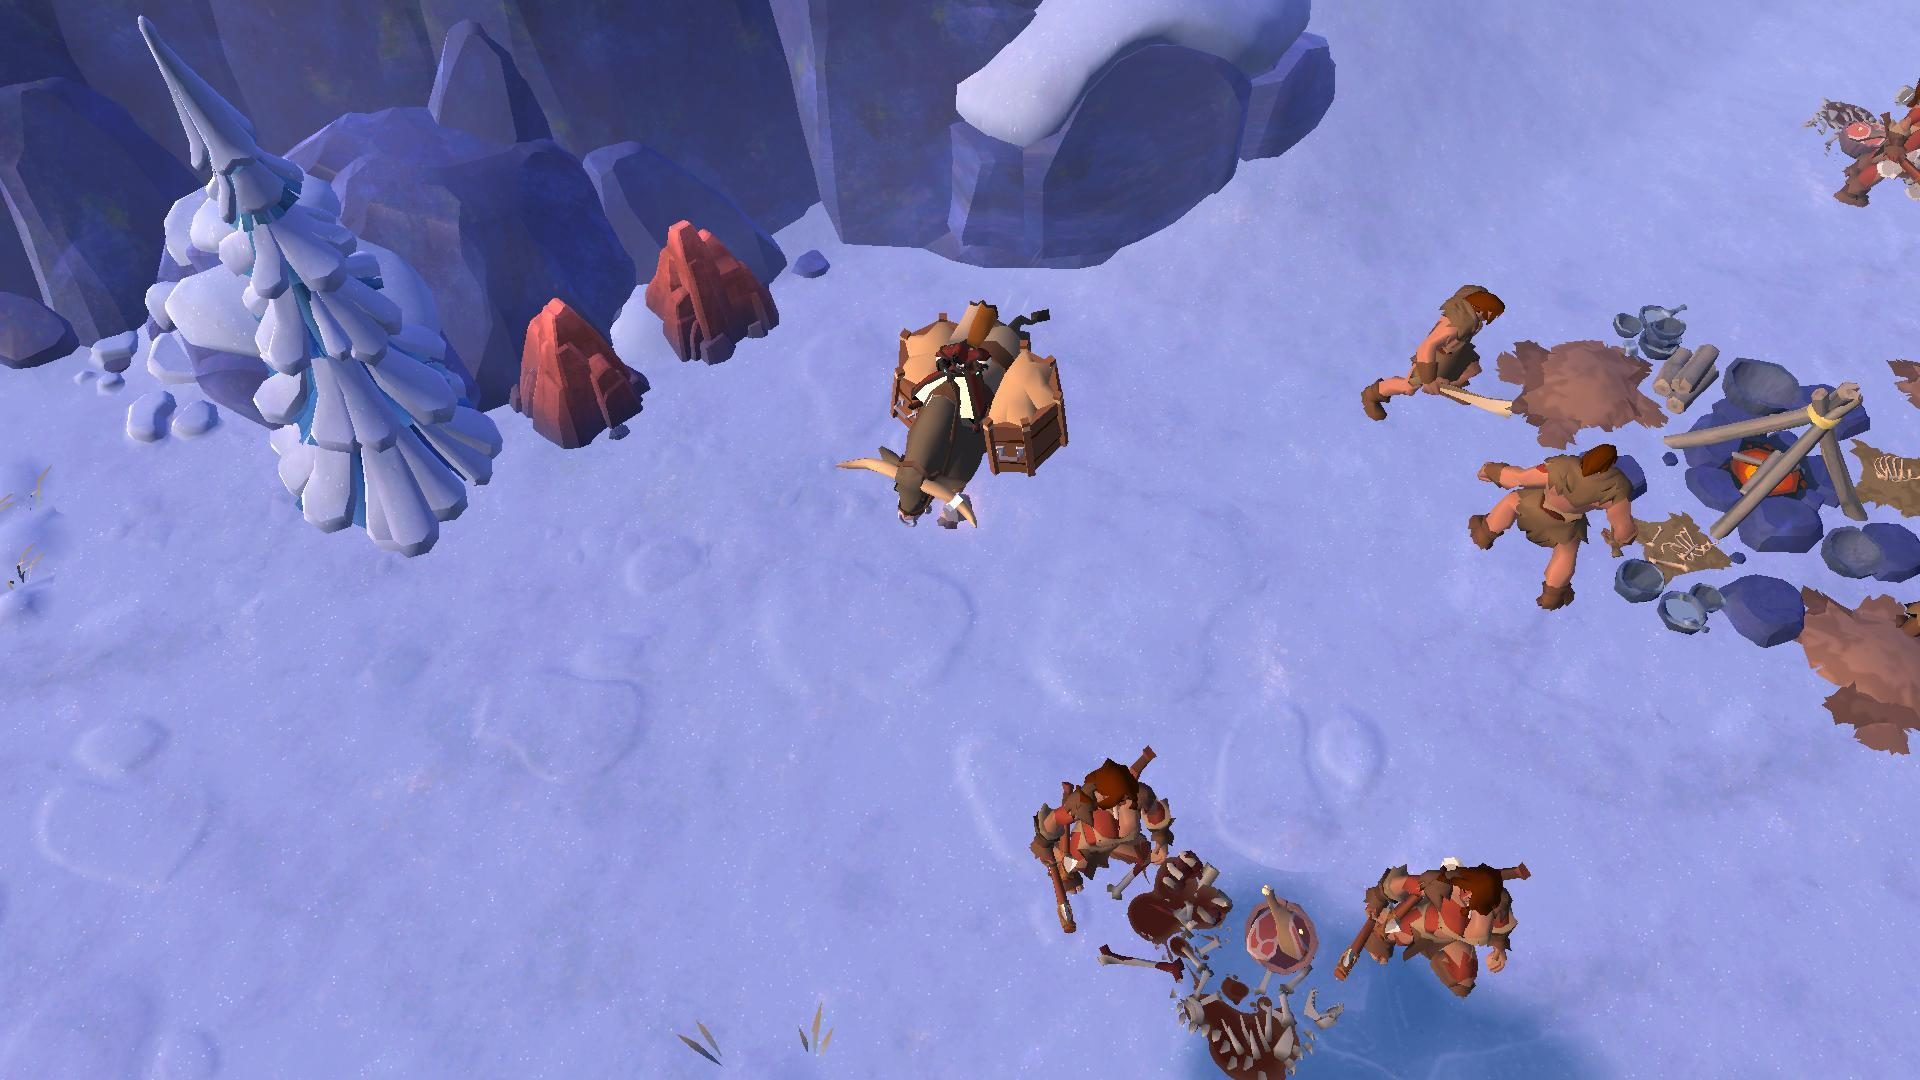enemy_factionKeeper: (1453, 443, 1631, 617), (1350, 278, 1515, 435), (1352, 851, 1515, 993), (1030, 758, 1167, 915)
rock_t5: (642, 214, 782, 371), (513, 299, 649, 446)
